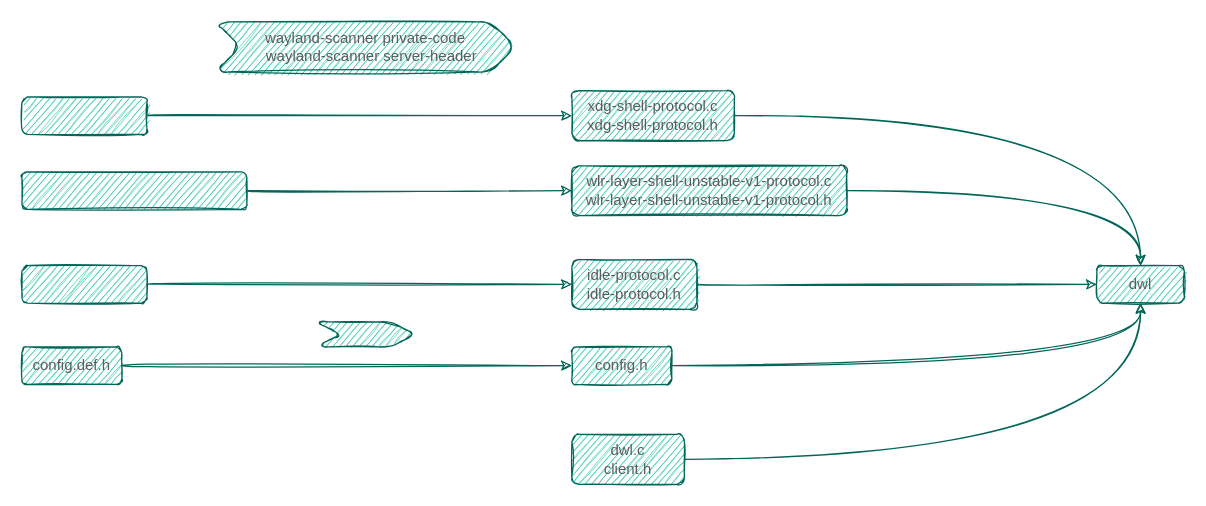
This 1206x506 diagram has some shape labels left out. The shapes that lost their labels are listed below. From the top down, each one's centre as x and y in pixels, then its label:
At point (84, 115): "xdg-shell.xml".
At point (134, 190): "wlr-layer-shell-unstable-v1.xml".
At point (84, 283): "idle.xml".
At point (365, 334): "cp".
